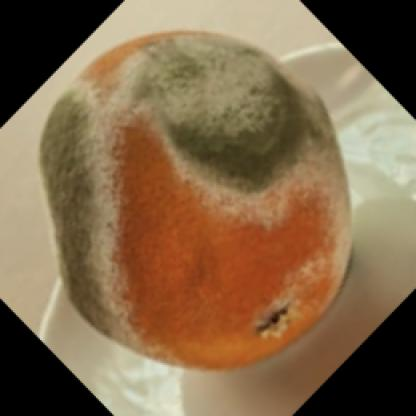rotten: (40, 29, 348, 372)
